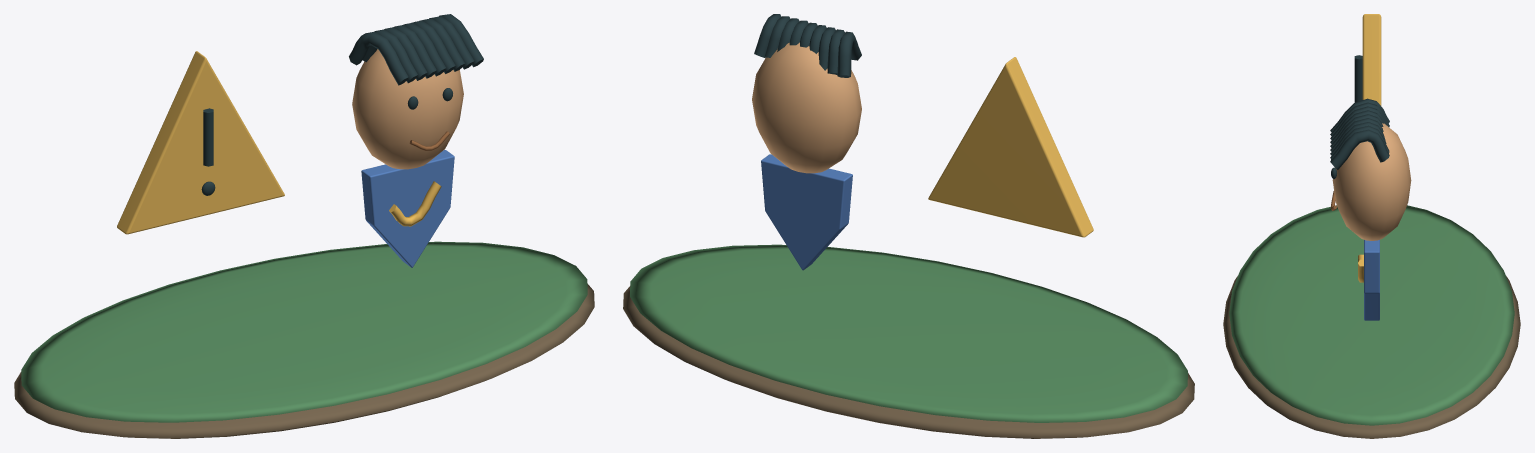
The model's file is complete-second-harm-fear.glb.
3 renders of one model, left to right at view 1: azimuth 30°, elevation 25°; view 2: azimuth 150°, elevation 25°; view 3: azimuth 270°, elevation 25°, orthographic. The views are drawn at different scales.
Visible parts, largest first — view 1: complete-second-harm-fear_surface_01, complete-second-harm-fear_surface_02, complete-second-harm-fear_surface_00, complete-second-harm-fear_surface_04, complete-second-harm-fear_surface_03, complete-second-harm-fear_surface_06; view 2: complete-second-harm-fear_surface_01, complete-second-harm-fear_surface_02, complete-second-harm-fear_surface_04, complete-second-harm-fear_surface_00, complete-second-harm-fear_surface_06, complete-second-harm-fear_surface_03; view 3: complete-second-harm-fear_surface_01, complete-second-harm-fear_surface_04, complete-second-harm-fear_surface_00, complete-second-harm-fear_surface_03, complete-second-harm-fear_surface_02, complete-second-harm-fear_surface_06.
Boxes of the visible parts, left/top/right/bottom form: complete-second-harm-fear_surface_01: left=21, top=241, right=587, bottom=422; complete-second-harm-fear_surface_02: left=117, top=51, right=441, bottom=234; complete-second-harm-fear_surface_00: left=14, top=284, right=594, bottom=438; complete-second-harm-fear_surface_04: left=352, top=49, right=463, bottom=169; complete-second-harm-fear_surface_03: left=201, top=14, right=483, bottom=195; complete-second-harm-fear_surface_06: left=361, top=150, right=454, bottom=267; complete-second-harm-fear_surface_01: left=630, top=244, right=1187, bottom=422; complete-second-harm-fear_surface_02: left=928, top=57, right=1093, bottom=237; complete-second-harm-fear_surface_04: left=752, top=42, right=861, bottom=173; complete-second-harm-fear_surface_00: left=623, top=286, right=1194, bottom=438; complete-second-harm-fear_surface_06: left=761, top=154, right=852, bottom=270; complete-second-harm-fear_surface_03: left=754, top=14, right=861, bottom=77; complete-second-harm-fear_surface_01: left=1229, top=205, right=1514, bottom=425; complete-second-harm-fear_surface_04: left=1332, top=123, right=1411, bottom=240; complete-second-harm-fear_surface_00: left=1223, top=276, right=1520, bottom=438; complete-second-harm-fear_surface_03: left=1330, top=55, right=1389, bottom=179; complete-second-harm-fear_surface_02: left=1358, top=14, right=1381, bottom=282; complete-second-harm-fear_surface_06: left=1364, top=240, right=1379, bottom=320.
Bounding box in the file's own units: 4.56 × 2.61 × 2.5.
